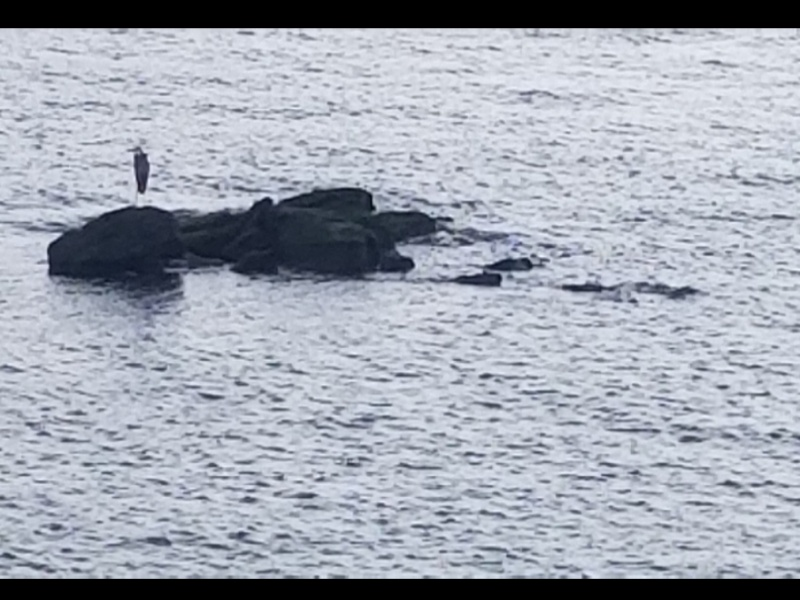heron: (129, 146, 151, 205)
